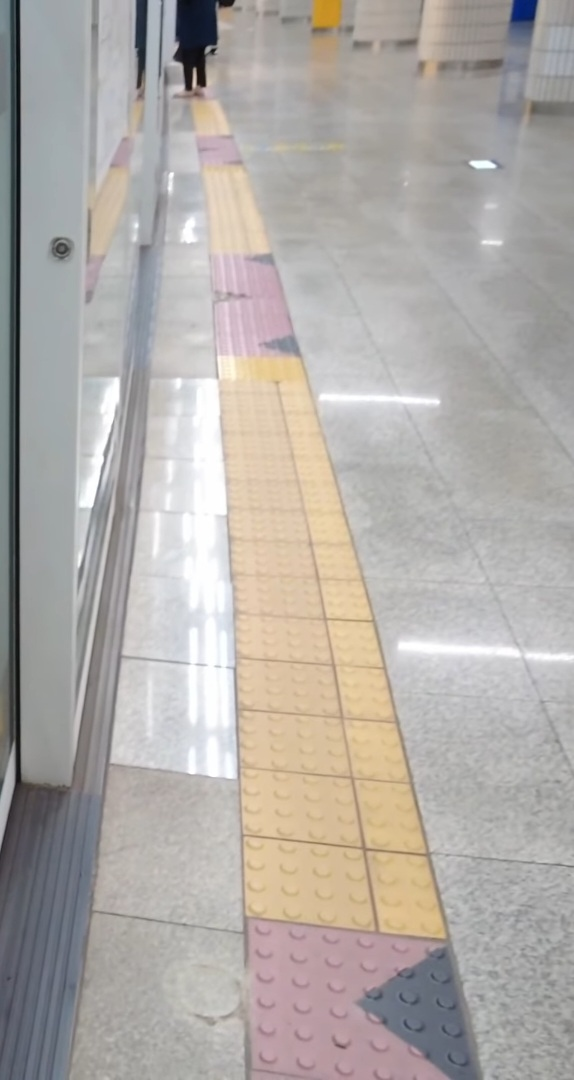warningBlock: (254, 916, 462, 1080), (245, 837, 456, 947), (240, 782, 424, 867), (257, 704, 438, 789), (236, 606, 388, 691), (240, 660, 399, 736), (218, 475, 367, 545), (224, 438, 342, 516), (236, 545, 381, 608), (232, 574, 371, 635), (225, 507, 350, 561), (225, 392, 320, 453)
